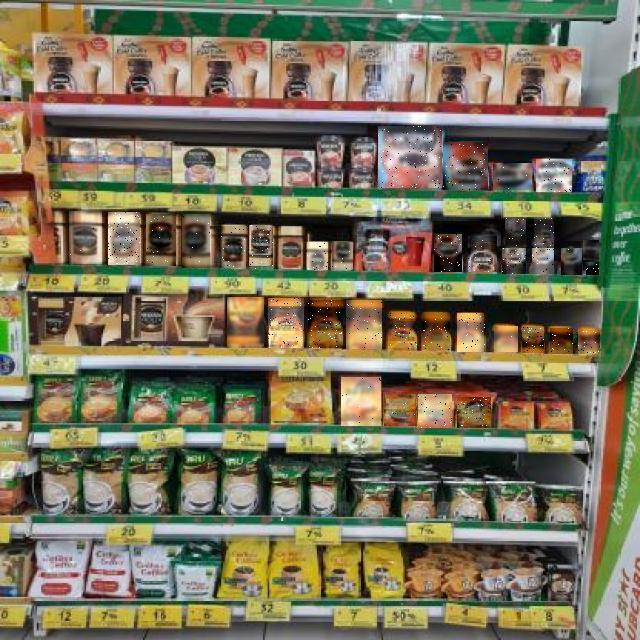Coffee: (378, 126, 442, 188), (443, 142, 488, 190), (341, 377, 381, 426), (227, 298, 264, 348), (268, 298, 304, 348), (346, 300, 382, 349), (69, 211, 102, 264), (109, 212, 141, 265), (308, 300, 343, 348), (147, 214, 177, 266), (182, 214, 210, 268), (536, 159, 572, 192), (419, 394, 453, 428), (493, 164, 532, 192), (220, 226, 246, 268), (458, 313, 486, 352), (435, 234, 463, 272), (249, 226, 273, 270), (457, 397, 491, 428), (468, 236, 497, 272), (389, 313, 417, 350), (422, 313, 450, 350), (384, 394, 416, 426), (502, 248, 526, 274), (494, 326, 518, 352), (505, 218, 526, 247), (534, 218, 554, 248), (550, 328, 573, 354), (307, 242, 328, 270), (332, 242, 353, 270), (532, 249, 554, 275), (522, 327, 544, 353), (561, 248, 582, 275), (578, 329, 600, 354), (583, 240, 599, 260), (586, 262, 599, 275)
